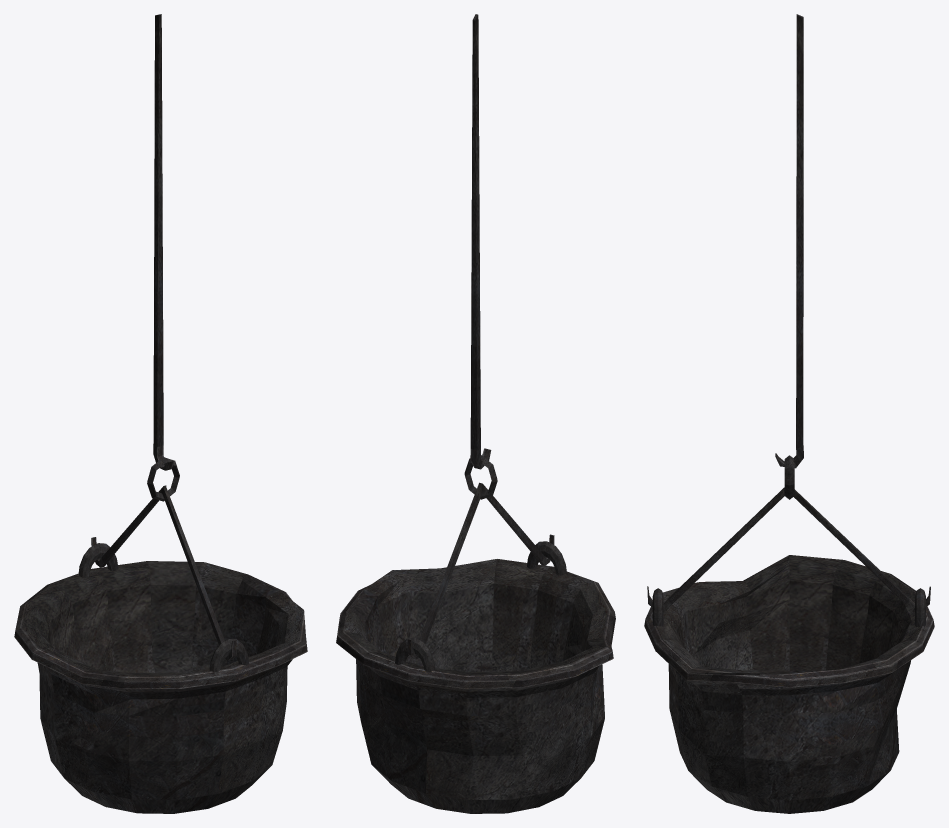
File: tavern_cooker2.dae
3 renders of one model, left to right at view 1: azimuth 30°, elevation 25°; view 2: azimuth 150°, elevation 25°; view 3: azimuth 270°, elevation 25°, orthographic.
Parts seen in each view (by area): view 1: Default_Layer; view 2: Default_Layer; view 3: Default_Layer.
Part boxes in pixels (left/top/right/bottom): Default_Layer: left=14, top=14, right=307, bottom=813; Default_Layer: left=336, top=14, right=615, bottom=813; Default_Layer: left=644, top=14, right=934, bottom=813.
Bounding box in the file's own units: 3.96 × 11.34 × 3.9.
